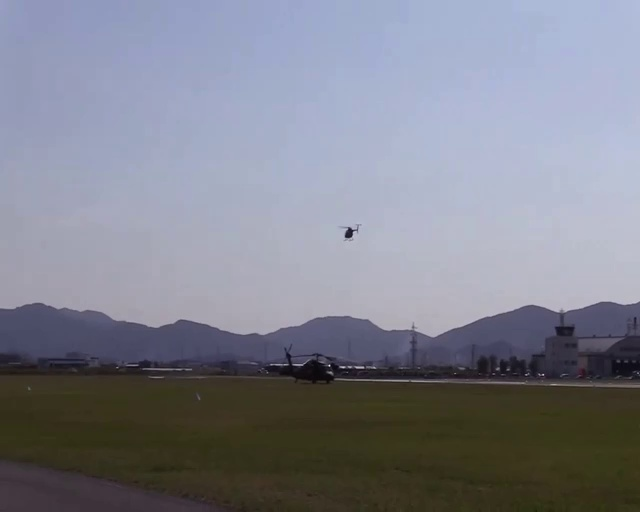HELICOPTER: (337, 223, 361, 241)
